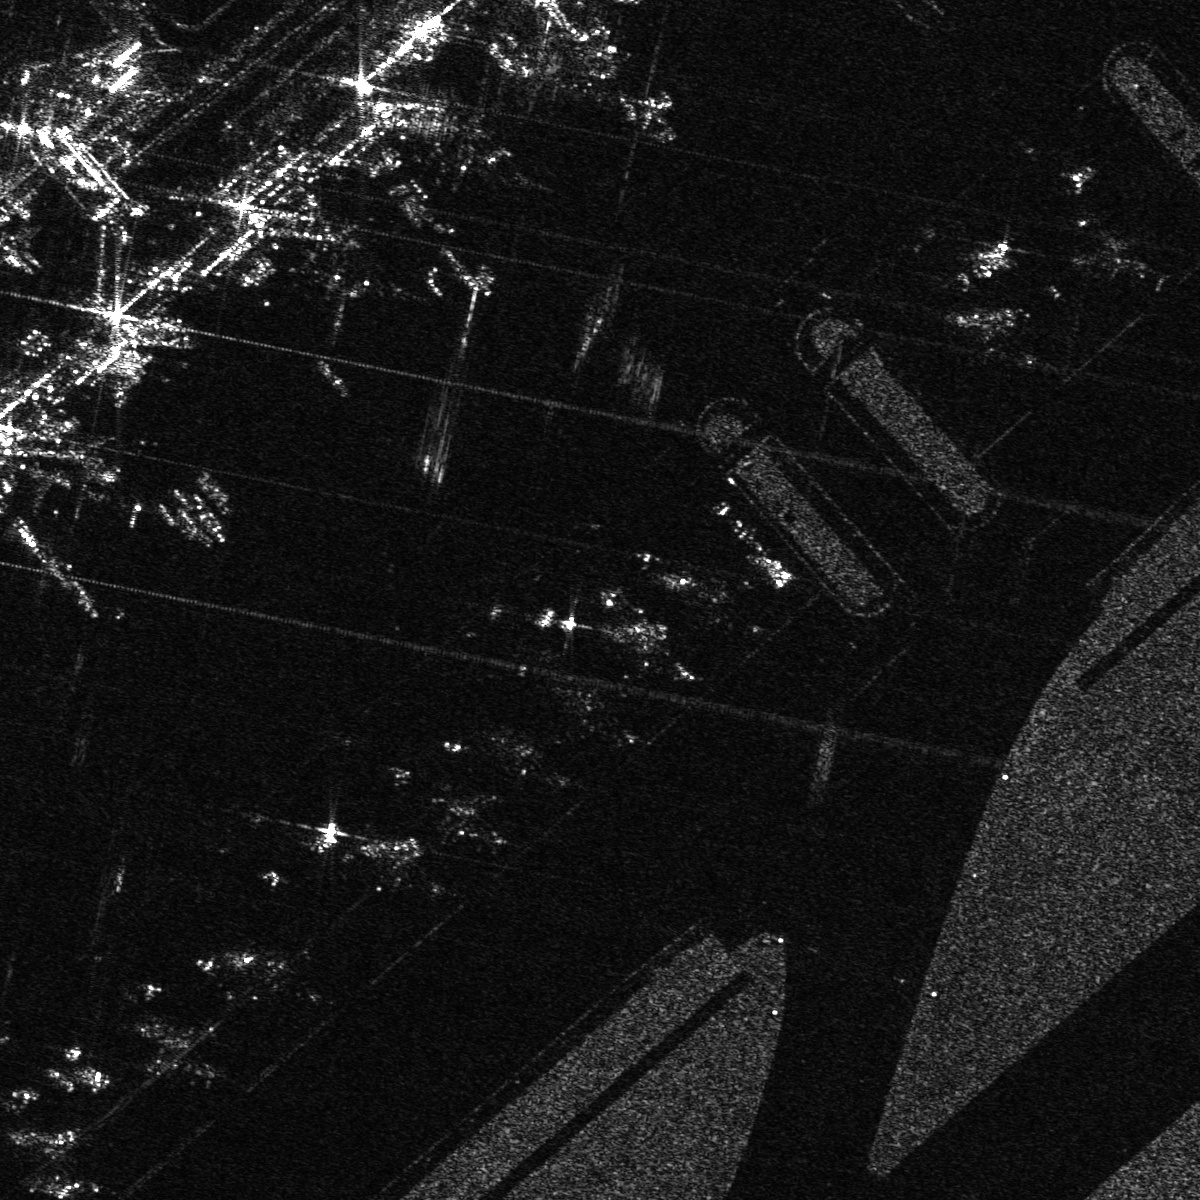A330: (62, 434, 158, 529)
Boeing737: (135, 1002, 231, 1088), (669, 567, 771, 645), (616, 613, 705, 690), (559, 673, 642, 755), (233, 943, 331, 1011), (359, 833, 452, 901), (1068, 213, 1154, 284), (495, 727, 575, 793), (437, 791, 511, 852), (621, 85, 687, 146)
